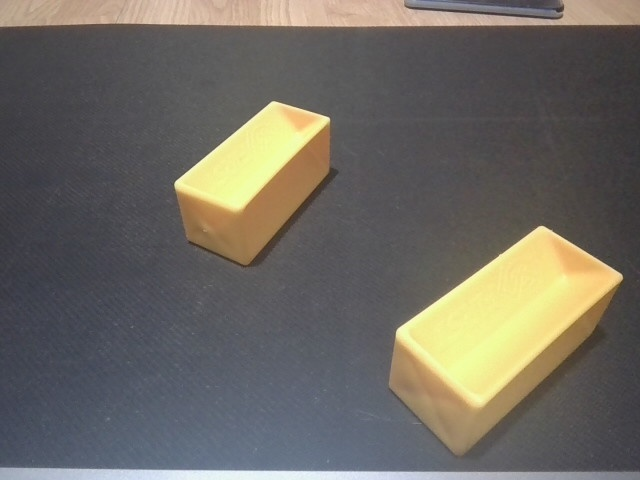YellowSample: (380, 221, 628, 462), (170, 97, 336, 270)
